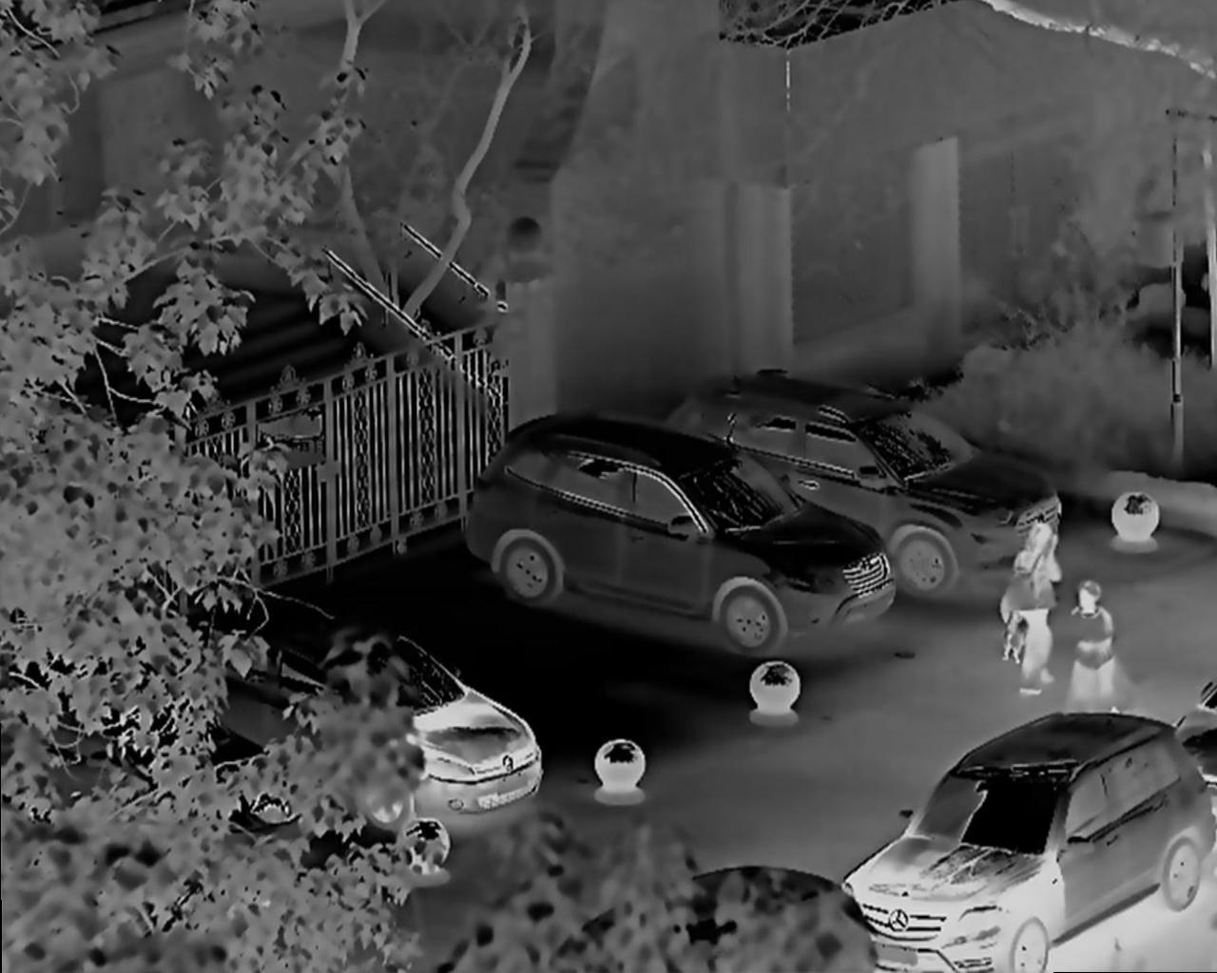person: (1002, 510, 1064, 705), (1068, 578, 1117, 717)
